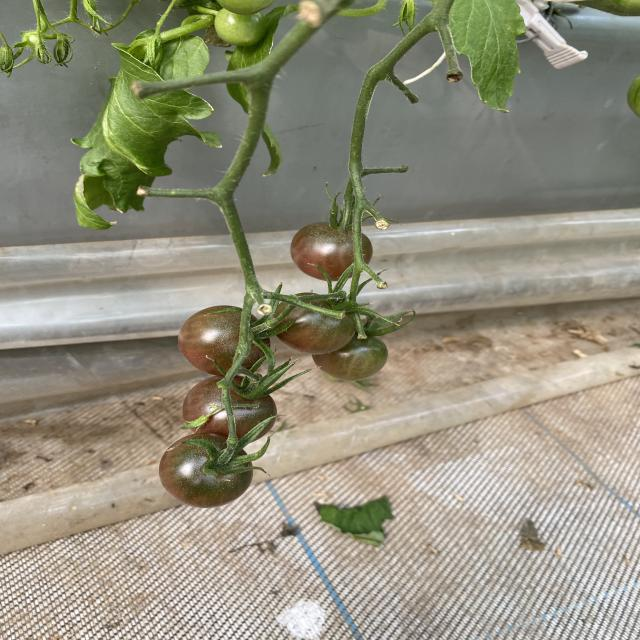c-half-riped: (159, 432, 253, 508), (182, 375, 277, 445), (178, 305, 270, 375), (273, 292, 359, 354), (290, 222, 373, 282), (311, 329, 388, 382)
c-unriped: (215, 8, 266, 48), (216, 0, 275, 16)
